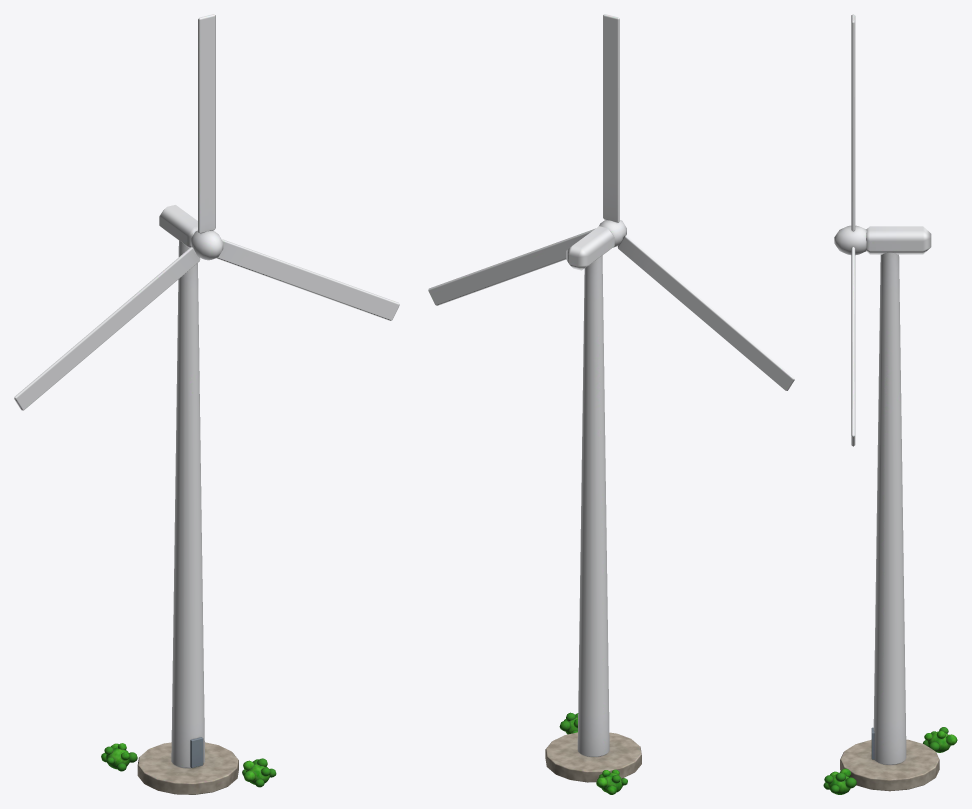
The model's file is wind_turbine.glb.
3 renders of one model, left to right at view 1: azimuth 30°, elevation 25°; view 2: azimuth 150°, elevation 25°; view 3: azimuth 270°, elevation 25°, orthographic. The views are drawn at different scales.
Visible parts, largest first — view 1: wind_turbine, spinZ_rotor; view 2: wind_turbine, spinZ_rotor; view 3: wind_turbine, spinZ_rotor.
Part boxes in pixels (box(x1,y1,x2,y2)): wind_turbine: box(101, 205, 276, 794); spinZ_rotor: box(14, 14, 399, 410); wind_turbine: box(545, 226, 641, 794); spinZ_rotor: box(428, 14, 794, 390); wind_turbine: box(823, 226, 957, 794); spinZ_rotor: box(834, 14, 866, 446).
Size of the model in its own units: 2.61 by 5.01 by 0.8066.
Materials: 1 (1 with a texture image).
